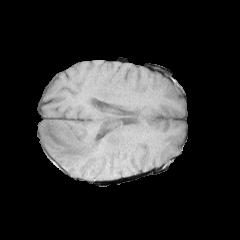glioma: (40, 120, 102, 171)
